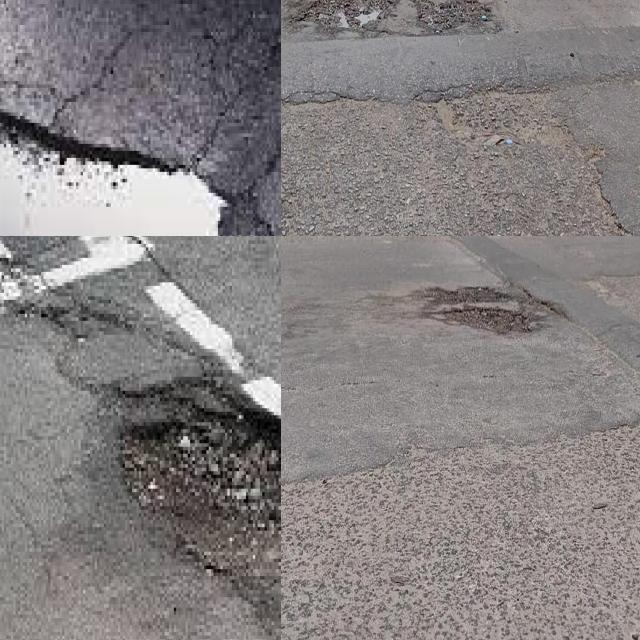Pothole: (46, 272, 281, 578), (0, 143, 225, 236), (294, 0, 390, 39), (415, 0, 488, 32), (445, 309, 535, 334), (421, 285, 510, 306)
Unmarked Bump: (449, 236, 640, 371)
